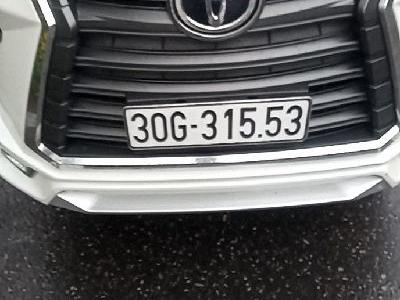lisence: (121, 95, 312, 152)
